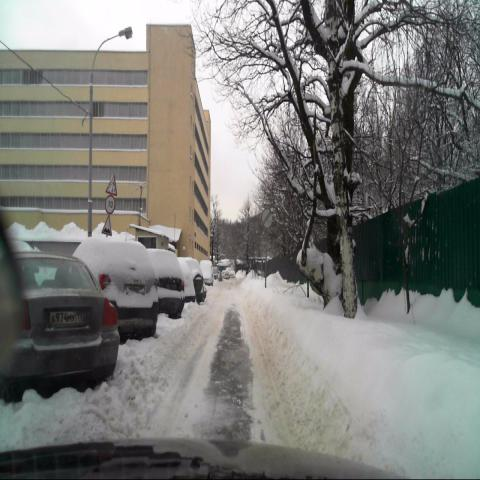3_31: (262, 208, 272, 229)
